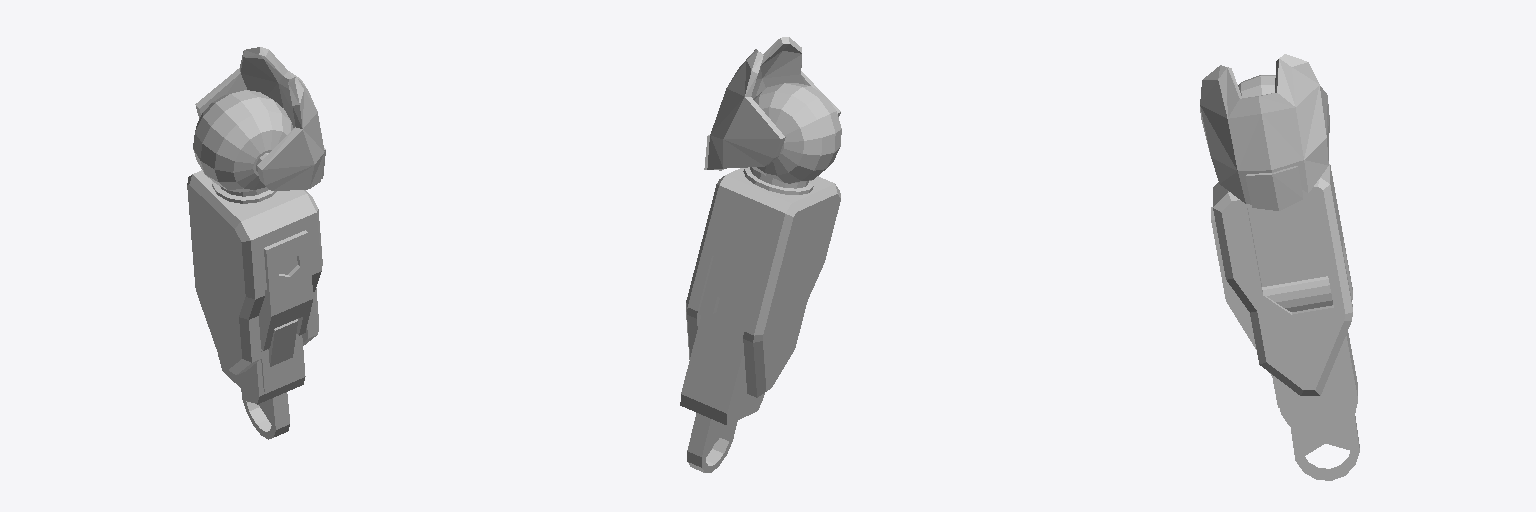
The picture shows the model from 3 angles: view 1: azimuth 30°, elevation 25°; view 2: azimuth 150°, elevation 25°; view 3: azimuth 270°, elevation 25°; orthographic projection.
Parts seen in each view (by area): view 1: UA1 hands polySurface430, UA1 hands polySurface434, UA1 hands polySurface313, UA1 hands polySurface428, UA1 hands polySurface436, polySurface314 UA1 hands, UA1 hands polySurface440, UA1 hands polySurface312, UA1 hands polySurface431; view 2: UA1 hands polySurface430, UA1 hands polySurface434, polySurface314 UA1 hands, UA1 hands polySurface313, UA1 hands polySurface439, UA1 hands polySurface436, UA1 hands polySurface431; view 3: UA1 hands polySurface430, UA1 hands polySurface434, UA1 hands polySurface429, polySurface314 UA1 hands, UA1 hands polySurface436, UA1 hands polySurface433, UA1 hands polySurface428, UA1 hands polySurface313.
Boxes of the visible parts, x1=… form: UA1 hands polySurface430: x1=187, y1=170, x2=322, y2=374; UA1 hands polySurface434: x1=195, y1=47, x2=324, y2=190; UA1 hands polySurface313: x1=193, y1=90, x2=293, y2=192; UA1 hands polySurface428: x1=259, y1=230, x2=313, y2=350; UA1 hands polySurface436: x1=241, y1=389, x2=289, y2=439; polySurface314 UA1 hands: x1=218, y1=335, x2=305, y2=404; UA1 hands polySurface440: x1=261, y1=334, x2=301, y2=391; UA1 hands polySurface312: x1=268, y1=319, x2=297, y2=366; UA1 hands polySurface431: x1=212, y1=181, x2=276, y2=203; UA1 hands polySurface430: x1=686, y1=168, x2=840, y2=397; UA1 hands polySurface434: x1=707, y1=37, x2=840, y2=169; polySurface314 UA1 hands: x1=680, y1=298, x2=764, y2=424; UA1 hands polySurface313: x1=752, y1=83, x2=841, y2=183; UA1 hands polySurface439: x1=699, y1=257, x2=757, y2=333; UA1 hands polySurface436: x1=687, y1=413, x2=737, y2=472; UA1 hands polySurface431: x1=743, y1=167, x2=813, y2=194; UA1 hands polySurface430: x1=1213, y1=164, x2=1352, y2=395; UA1 hands polySurface434: x1=1200, y1=54, x2=1329, y2=204; UA1 hands polySurface429: x1=1248, y1=196, x2=1332, y2=311; polySurface314 UA1 hands: x1=1274, y1=332, x2=1357, y2=425; UA1 hands polySurface436: x1=1290, y1=415, x2=1359, y2=480; UA1 hands polySurface433: x1=1245, y1=166, x2=1302, y2=210; UA1 hands polySurface428: x1=1211, y1=207, x2=1256, y2=349; UA1 hands polySurface313: x1=1238, y1=75, x2=1275, y2=97.
Size of the model in its own units: 14.75 by 47.44 by 16.73.